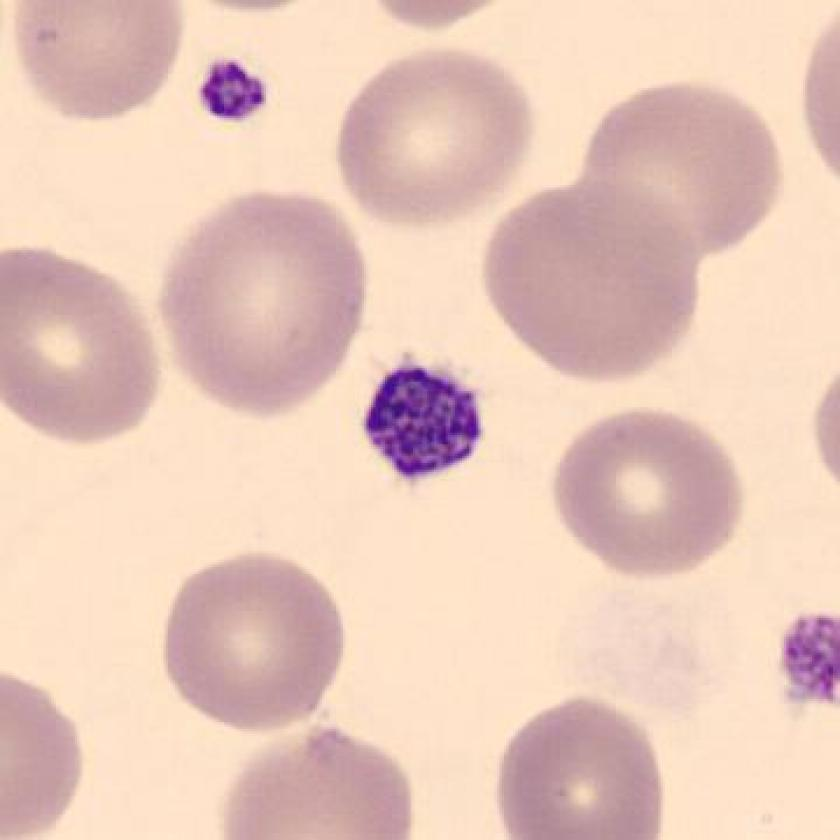platelets: (349, 353, 500, 489), (766, 603, 840, 714), (188, 48, 276, 129)
